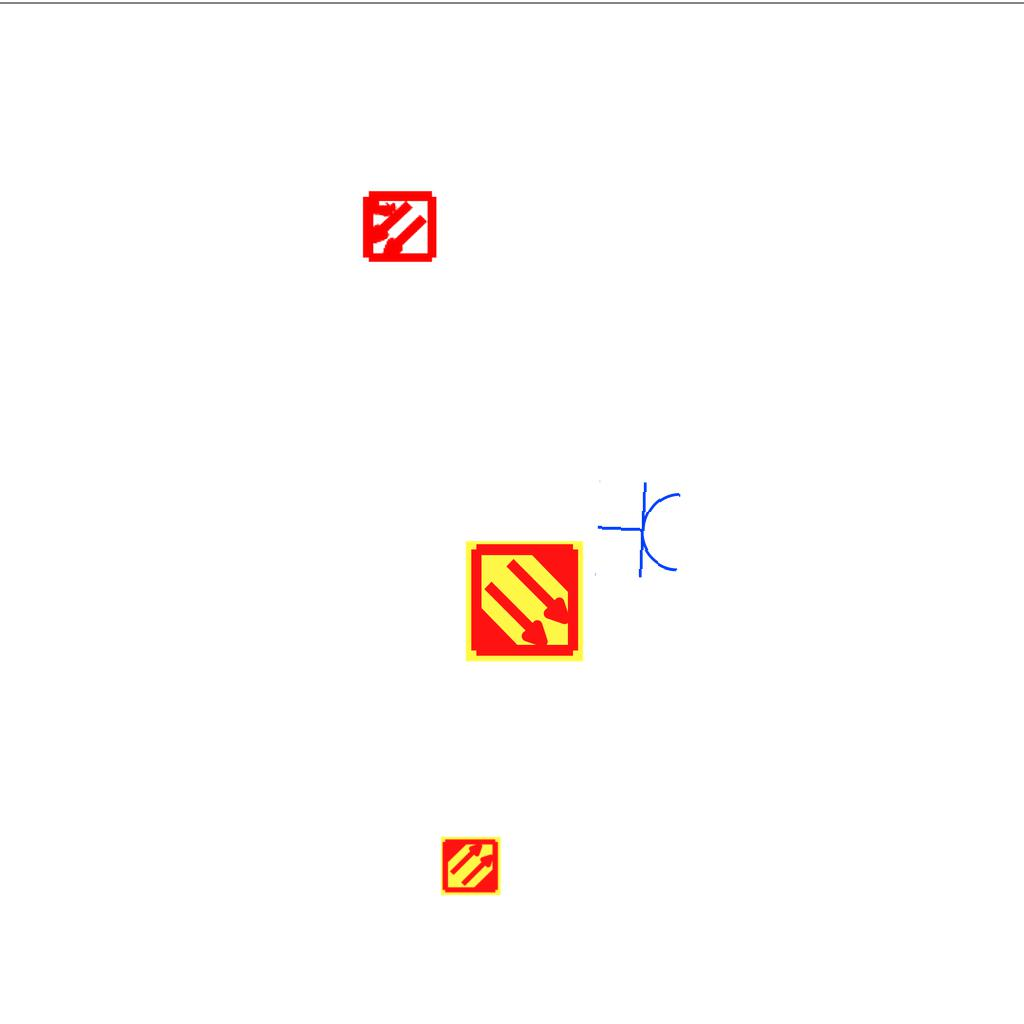ASR_Ansaugrauchmelder: (462, 539, 587, 664), (440, 835, 502, 897)
OT_Multisensormelder_(Kombination_RMO_WMD): (341, 170, 454, 283)
Schukosteckdose_einfach: (593, 478, 687, 583)
